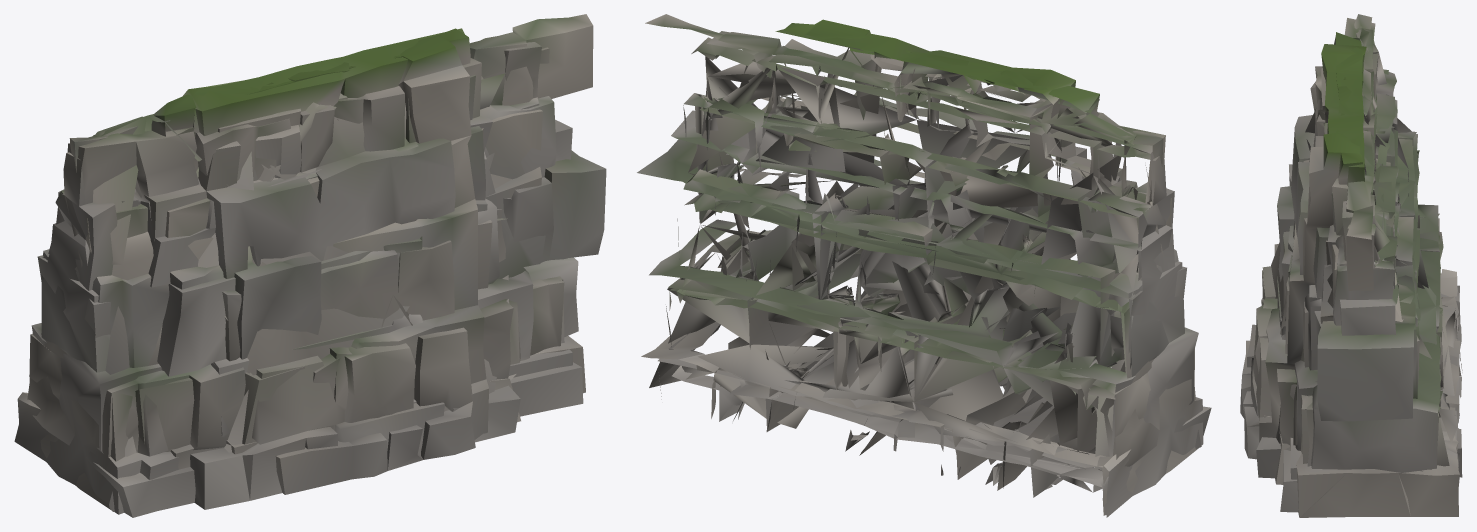
The model's file is cliffs.glb.
3 renders of one model, left to right at view 1: azimuth 30°, elevation 25°; view 2: azimuth 150°, elevation 25°; view 3: azimuth 270°, elevation 25°, orthographic. The views are drawn at different scales.
Parts seen in each view (by area): view 1: cliff2, cliff0, cliff1, cliff0_far, cliff2_far, cliff1_far; view 2: cliff0, cliff1, cliff2, cliff0_far, cliff1_far, cliff2_far; view 3: cliff0, cliff1, cliff2, cliff0_far, cliff2_far, cliff1_far.
Part boxes in pixels (x1,y1,x2,y2): cliff2: (27,28,583,517); cliff0: (14,14,606,514); cliff1: (31,36,585,509); cliff0_far: (41,114,511,511); cliff2_far: (64,80,509,393); cliff1_far: (48,73,504,253); cliff0: (637,14,1203,517); cliff1: (641,31,1198,515); cliff2: (669,29,1211,515); cliff0_far: (667,50,1201,492); cliff1_far: (649,61,1138,454); cliff2_far: (681,42,1163,487); cliff0: (1247,14,1460,479); cliff1: (1264,18,1461,517); cliff2: (1240,40,1462,512); cliff0_far: (1271,28,1459,466); cliff2_far: (1276,44,1458,443); cliff1_far: (1313,92,1457,471).
Bounding box in the file's own units: 1.68 × 1.11 × 0.7023.
